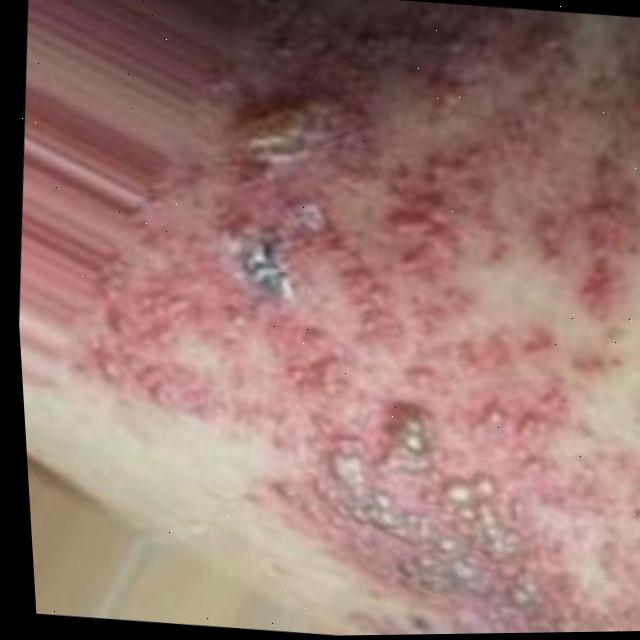Shingles: (61, 0, 640, 639)
